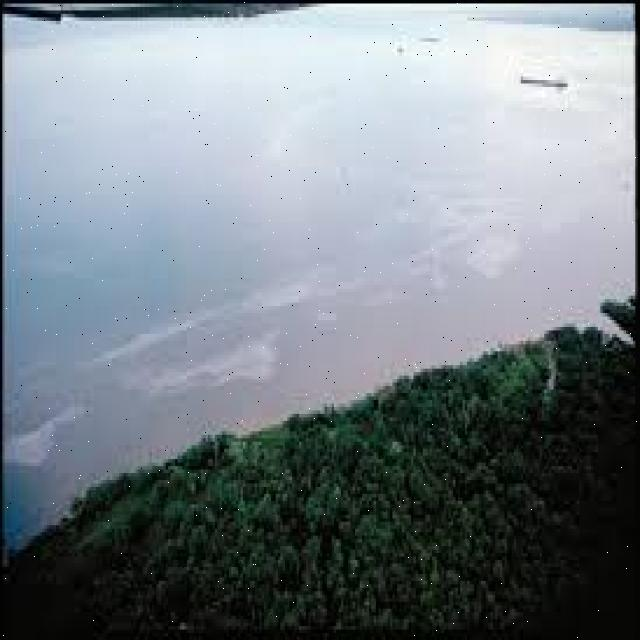sheen: (112, 282, 301, 391), (7, 407, 75, 470)
